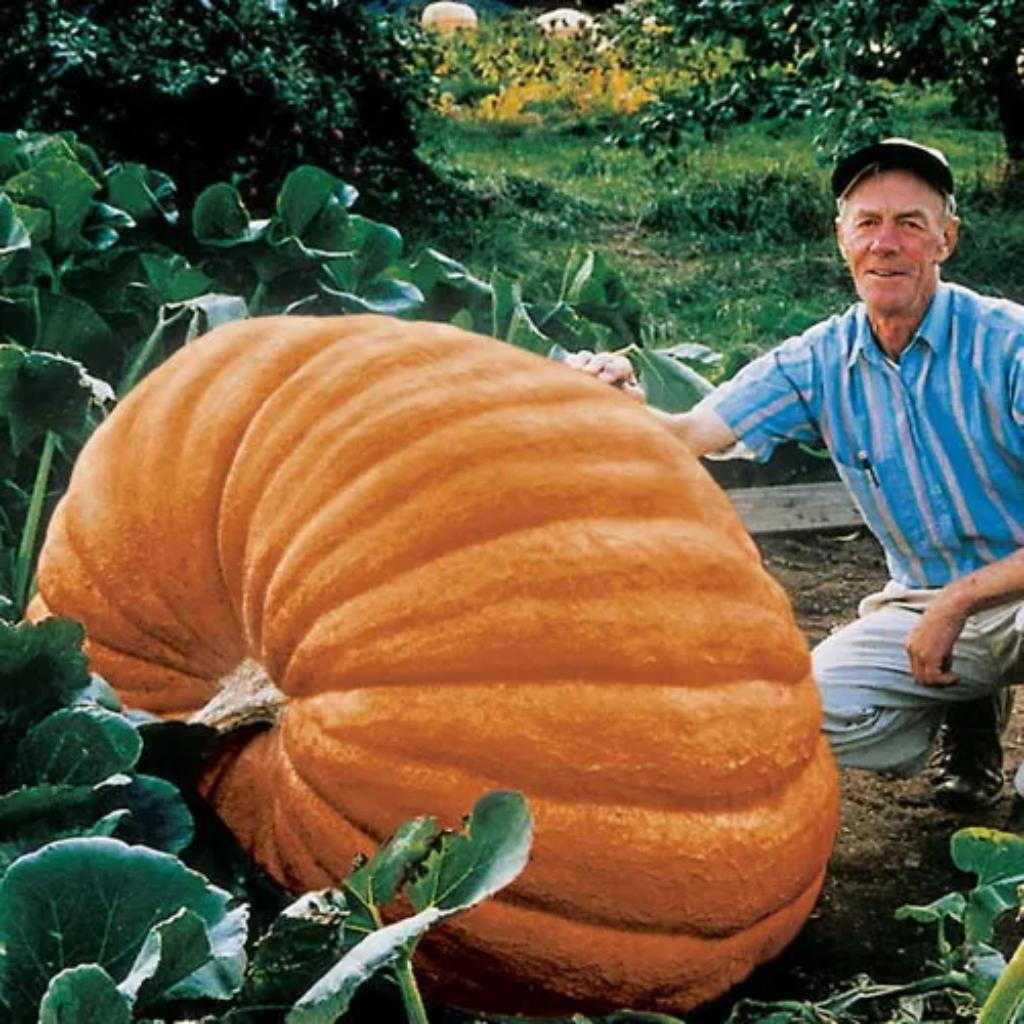pumpkin: (32, 316, 838, 1013)
